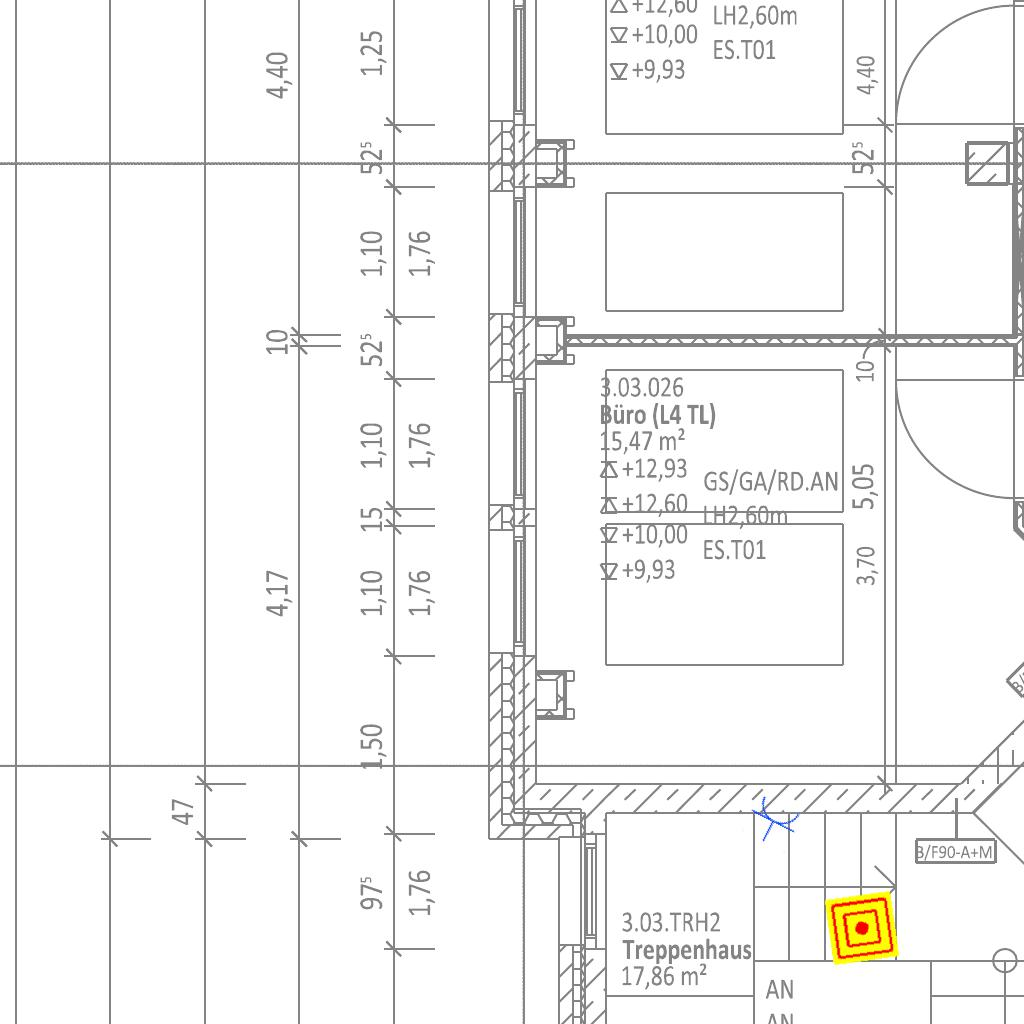NAM-Nichtautomatischer_Melder: (824, 890, 900, 966)
Schukosteckdose_einfach: (740, 791, 806, 854)
